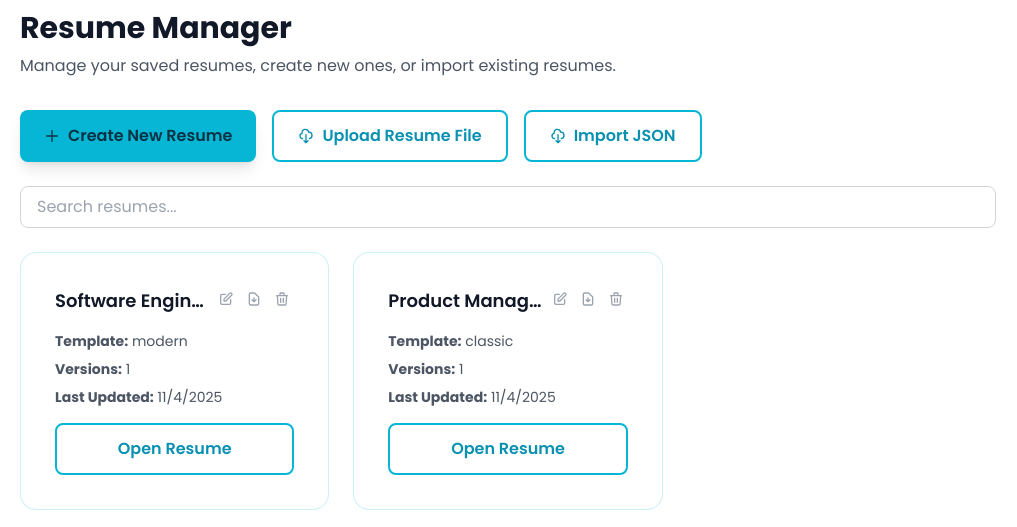
Test: ResumeManager Component › Search and Filter › should show no results message when no matches found
The image size is (1017, 527).
Type "NonExistent" into the field with placeholder "Search resumes..." at (508, 207), box top-left (20, 186), bottom-right (996, 228)
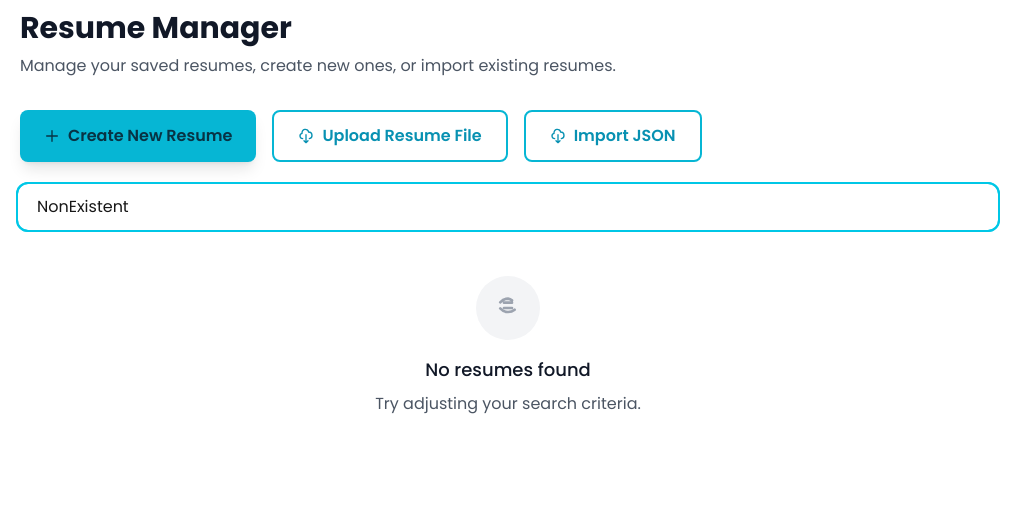
Expected: the heading "No resumes found" is shown, top-left (425, 357), bottom-right (591, 382)
